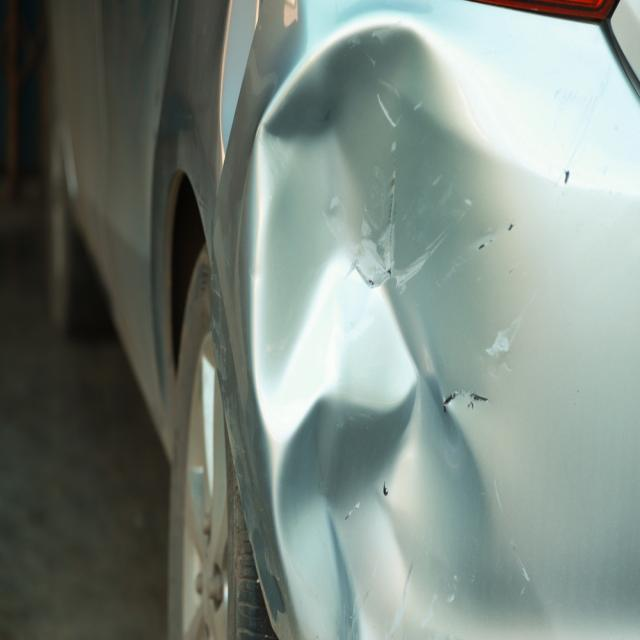dent: (241, 23, 554, 640)
